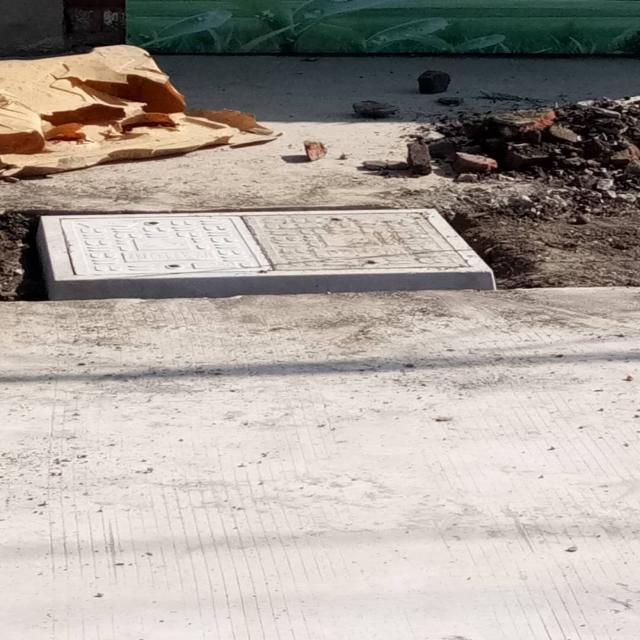Good: (38, 208, 491, 282)
